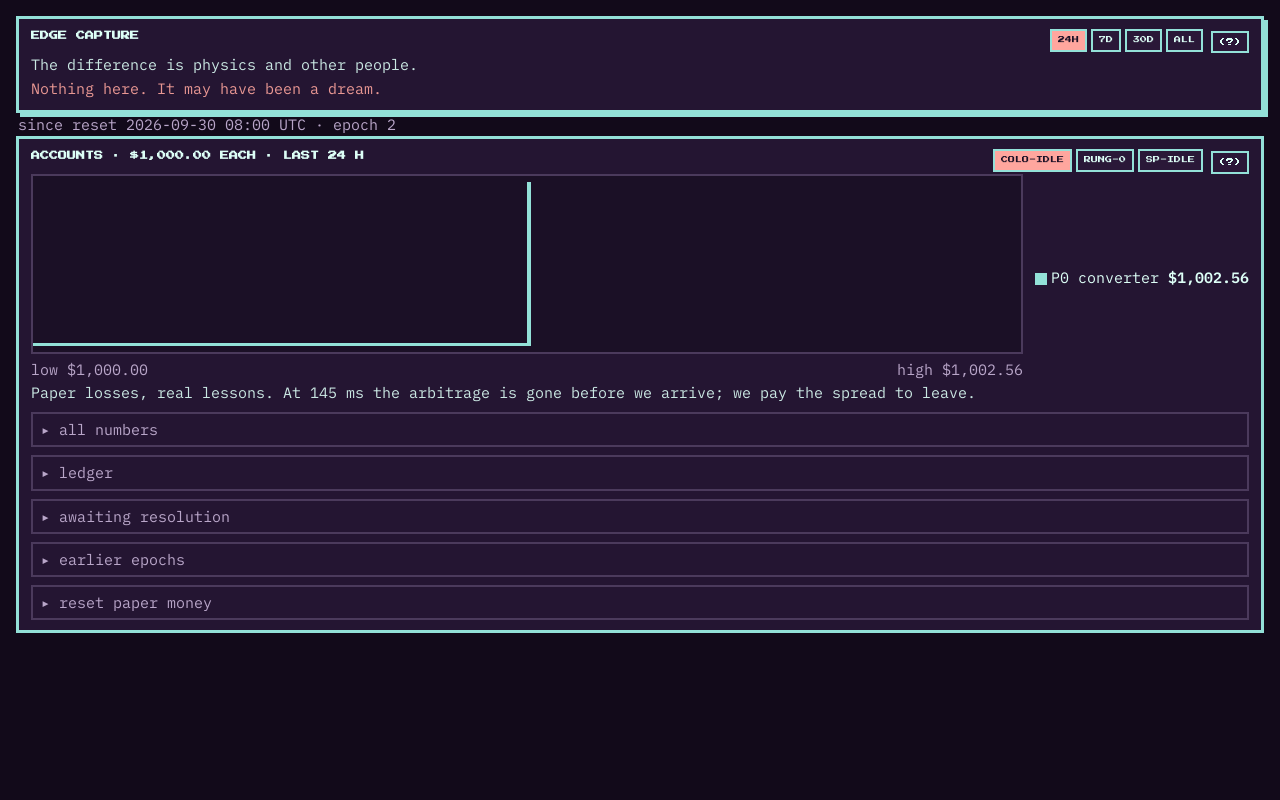
Test: Paper › earlier epochs: nothing fetched until the fold opens, then each epoch with its P0 fee-0 final equity
Expected: the text "since reset 2026-09-30 08:00 UTC · epoch 2" is shown, x1=18 y1=115 x2=396 y2=134
Step 1. Click the heading "earlier epochs" → [122, 559], box x1=59 y1=550 x2=185 y2=569
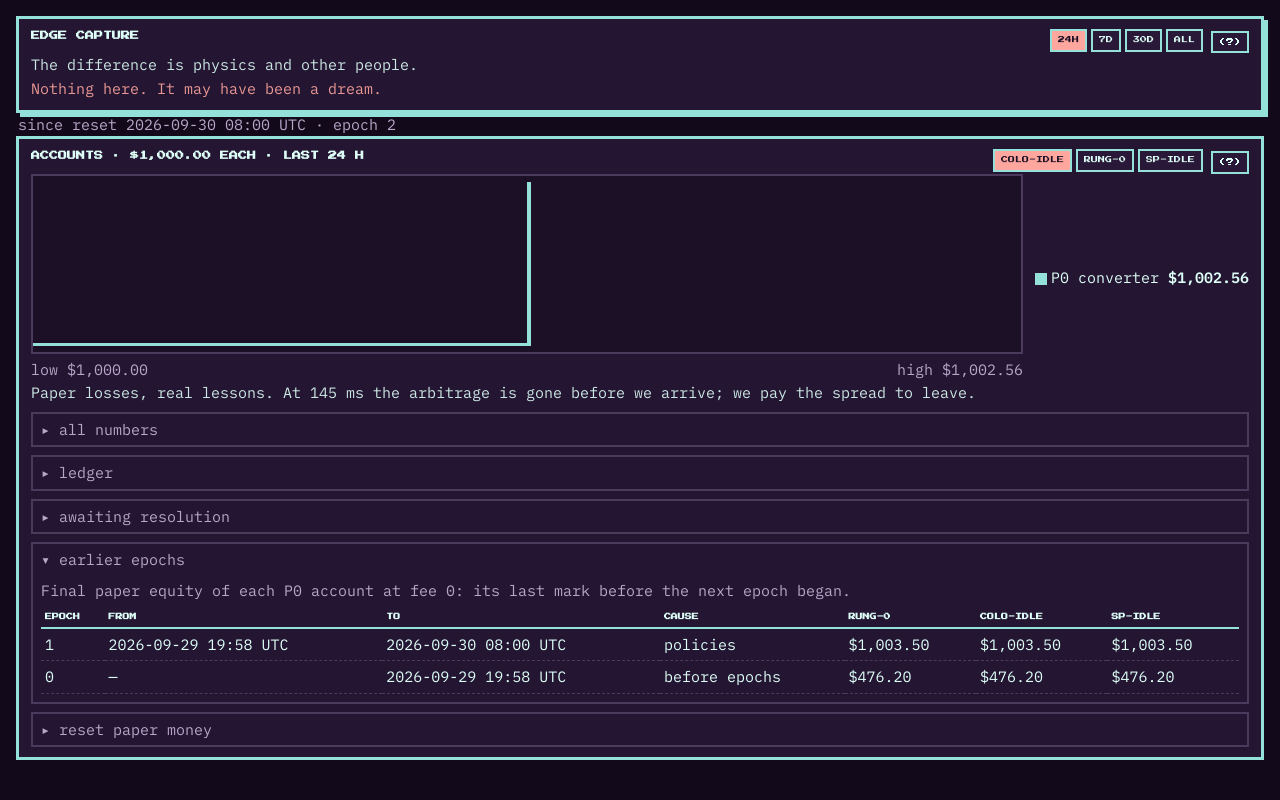
Expected: the text "$476.20" is shown 3 times, x1=848 y1=667 x2=912 y2=686; x1=980 y1=667 x2=1043 y2=686; x1=1112 y1=667 x2=1174 y2=686
Expected: the text "$1,003.50" is shown 3 times, x1=848 y1=635 x2=930 y2=654; x1=980 y1=635 x2=1061 y2=654; x1=1112 y1=635 x2=1192 y2=654
Expected: the text "before epochs" is shown, x1=660 y1=661 x2=844 y2=693
